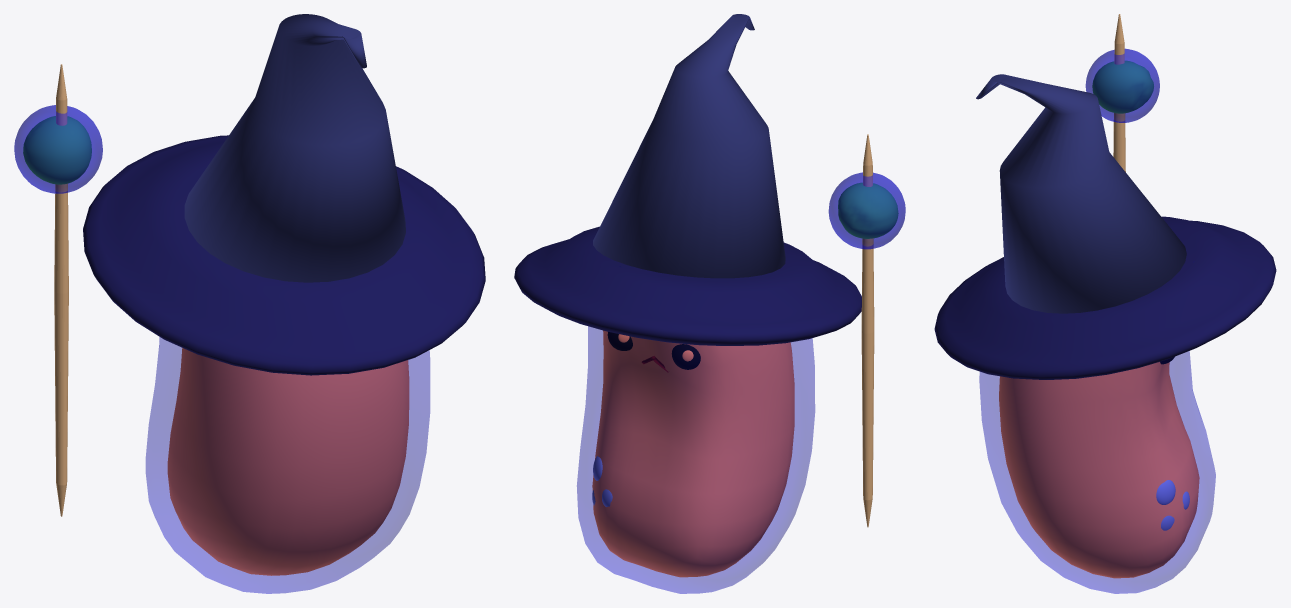
File: WIZARD BEAN COMBINED.fbx
The picture shows the model from 3 angles, left to right: view 1: azimuth 30°, elevation 25°; view 2: azimuth 150°, elevation 25°; view 3: azimuth 270°, elevation 25°; orthographic projection. The views are drawn at different scales.
Visible parts, largest first — view 1: Cube, Cylinder.002; view 2: Cube, Cylinder.002; view 3: Cube, Cylinder.002.
Boxes of the visible parts, x1=… form: Cube: x1=83, y1=14, x2=485, y2=593; Cylinder.002: x1=14, y1=64, x2=102, y2=516; Cube: x1=514, y1=14, x2=861, y2=593; Cylinder.002: x1=828, y1=134, x2=905, y2=527; Cube: x1=934, y1=74, x2=1276, y2=593; Cylinder.002: x1=1085, y1=14, x2=1159, y2=172.
Bounding box in the file's own units: 246 × 331 × 203.
